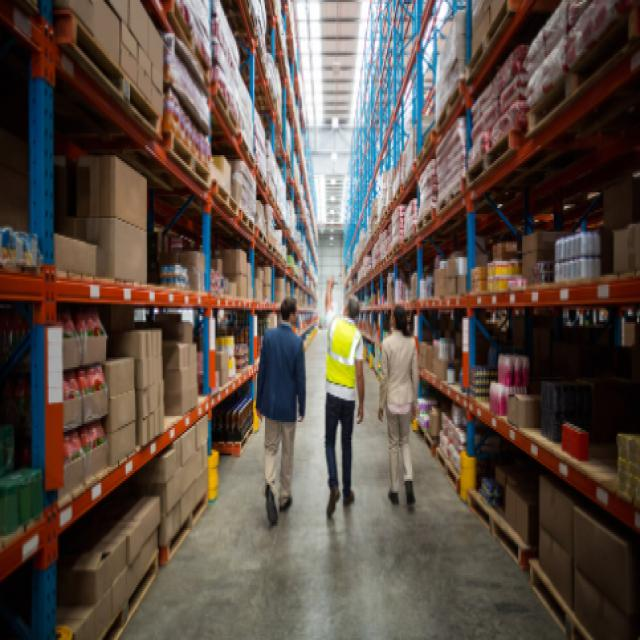shoes: (323, 486, 357, 517)
vest: (326, 317, 363, 394)
